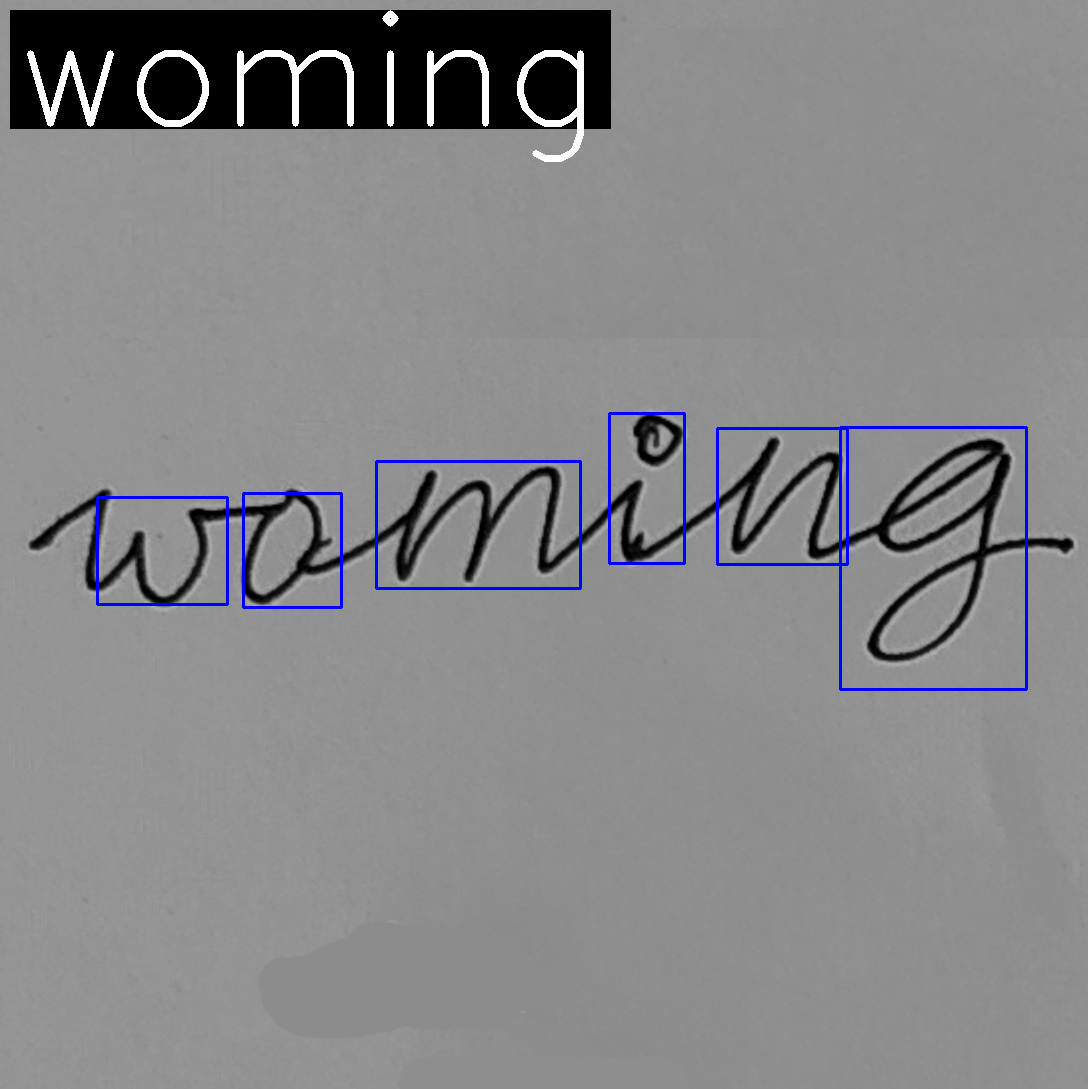g: (864, 435, 1013, 664)
i: (612, 410, 686, 568)
m: (390, 459, 564, 587)
n: (726, 432, 844, 567)
o: (237, 488, 324, 607)
w: (78, 489, 211, 609)
